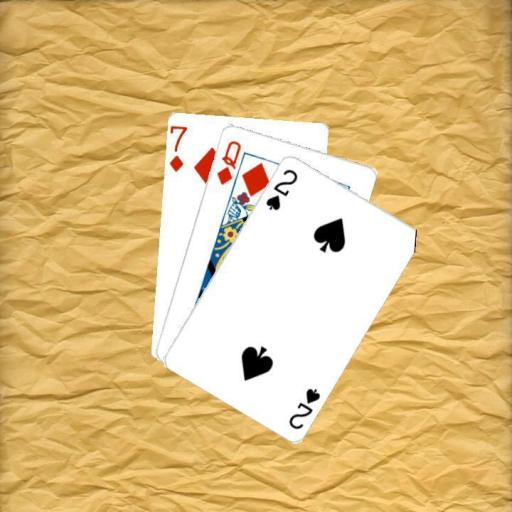card-corner: (262, 165, 300, 212), (285, 384, 322, 431), (214, 136, 242, 186), (166, 122, 188, 174)
